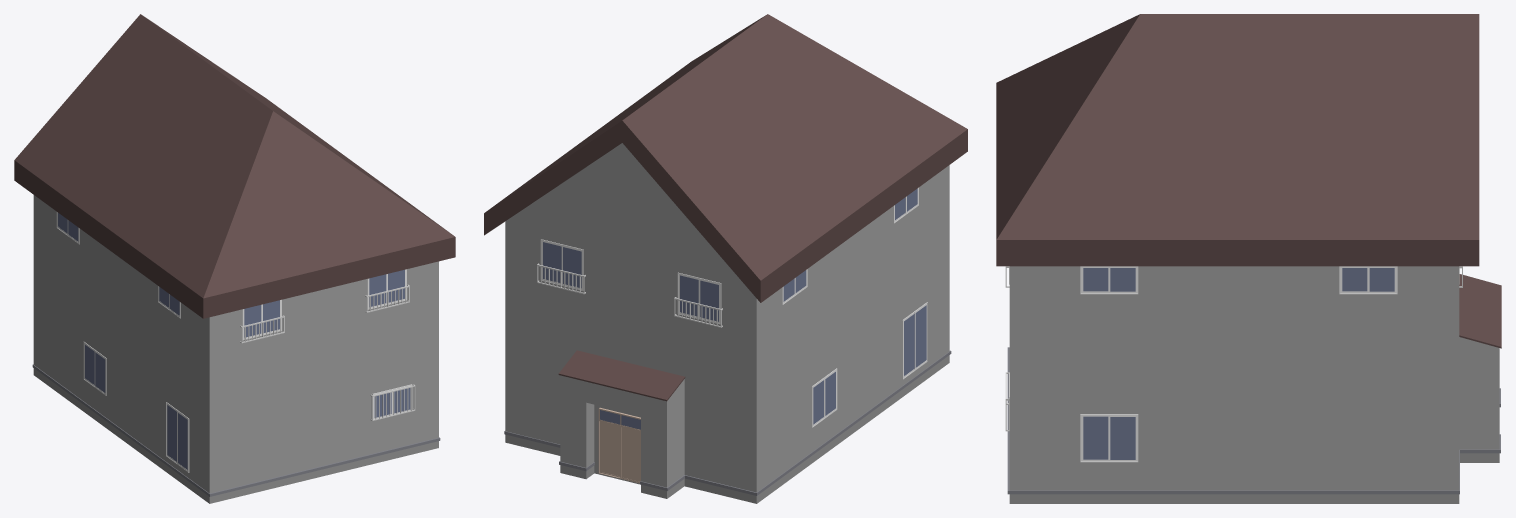
The model's file is MobHouse32.fbx.
The picture shows the model from 3 angles, left to right: view 1: azimuth 30°, elevation 25°; view 2: azimuth 150°, elevation 25°; view 3: azimuth 270°, elevation 25°; orthographic projection. The views are drawn at different scales.
Visible parts, largest first — view 1: Flat_half_house01.032; view 2: Flat_half_house01.032; view 3: Flat_half_house01.032.
Boxes of the visible parts, left/top/right/bottom form: Flat_half_house01.032: left=14, top=14, right=455, bottom=503; Flat_half_house01.032: left=484, top=14, right=967, bottom=503; Flat_half_house01.032: left=996, top=14, right=1501, bottom=503.
Bounding box in the file's own units: 8.33 × 10.33 × 11.3.
